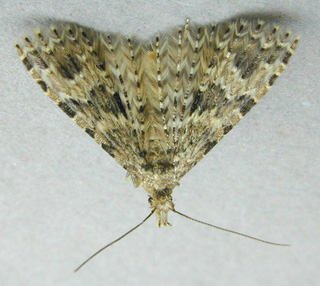Alucitidae: (11, 13, 298, 274)
moth: (13, 15, 300, 276)
